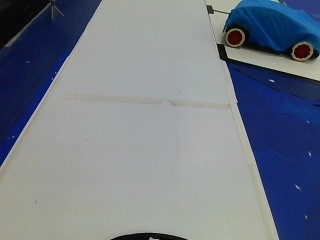car: (218, 0, 318, 60)
